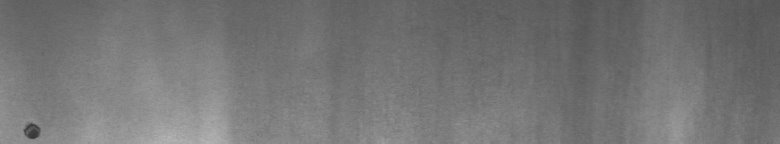fi: (19, 116, 47, 136)
